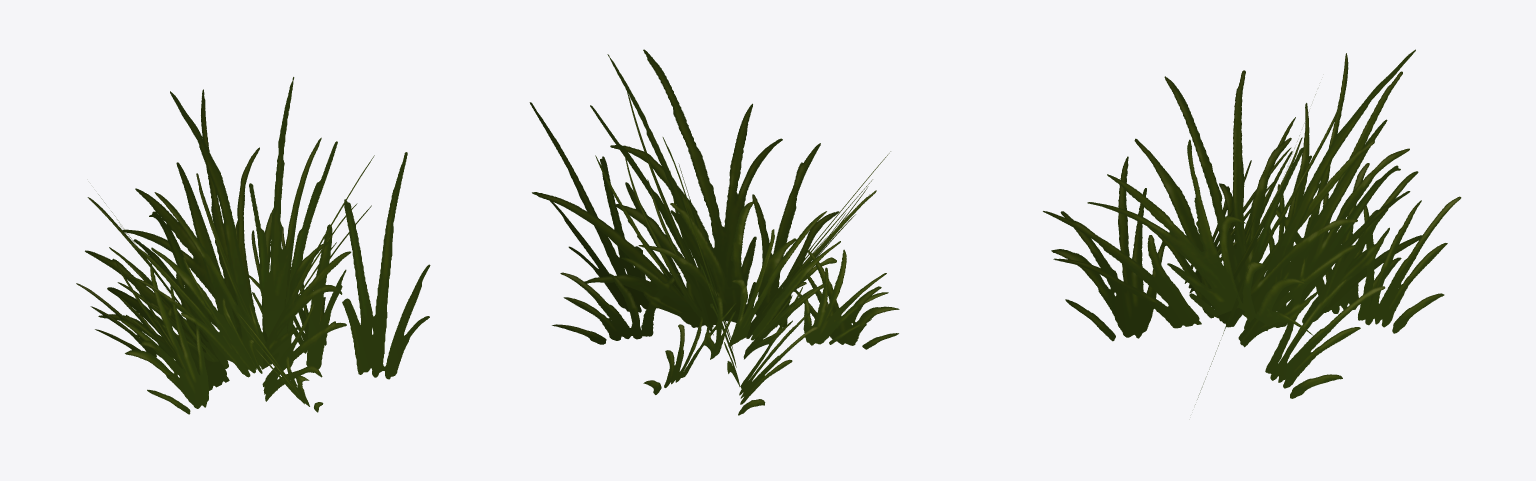
The model's file is MSH_tdFV_Grass_3_Med.fbx.
3 views of the same model, side by side, from view 1: azimuth 30°, elevation 25°; view 2: azimuth 150°, elevation 25°; view 3: azimuth 270°, elevation 25° (orthographic). The views are drawn at different scales.
Parts seen in each view (by area): view 1: MSH_tdFV_Grass_3_Med; view 2: MSH_tdFV_Grass_3_Med; view 3: MSH_tdFV_Grass_3_Med.
Part boxes in pixels (left/top/right/bottom): MSH_tdFV_Grass_3_Med: left=76, top=77, right=430, bottom=414; MSH_tdFV_Grass_3_Med: left=529, top=49, right=899, bottom=415; MSH_tdFV_Grass_3_Med: left=1043, top=49, right=1461, bottom=404.
Size of the model in its own units: 1.16 by 0.9965 by 1.16.
